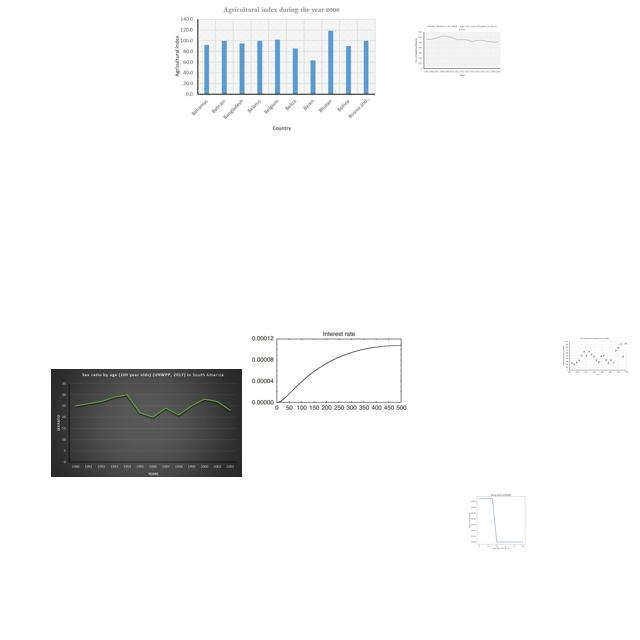Graph: (167, 4, 378, 131), (51, 369, 242, 477), (247, 324, 408, 415), (455, 489, 545, 551), (412, 24, 502, 77), (562, 337, 629, 376)
